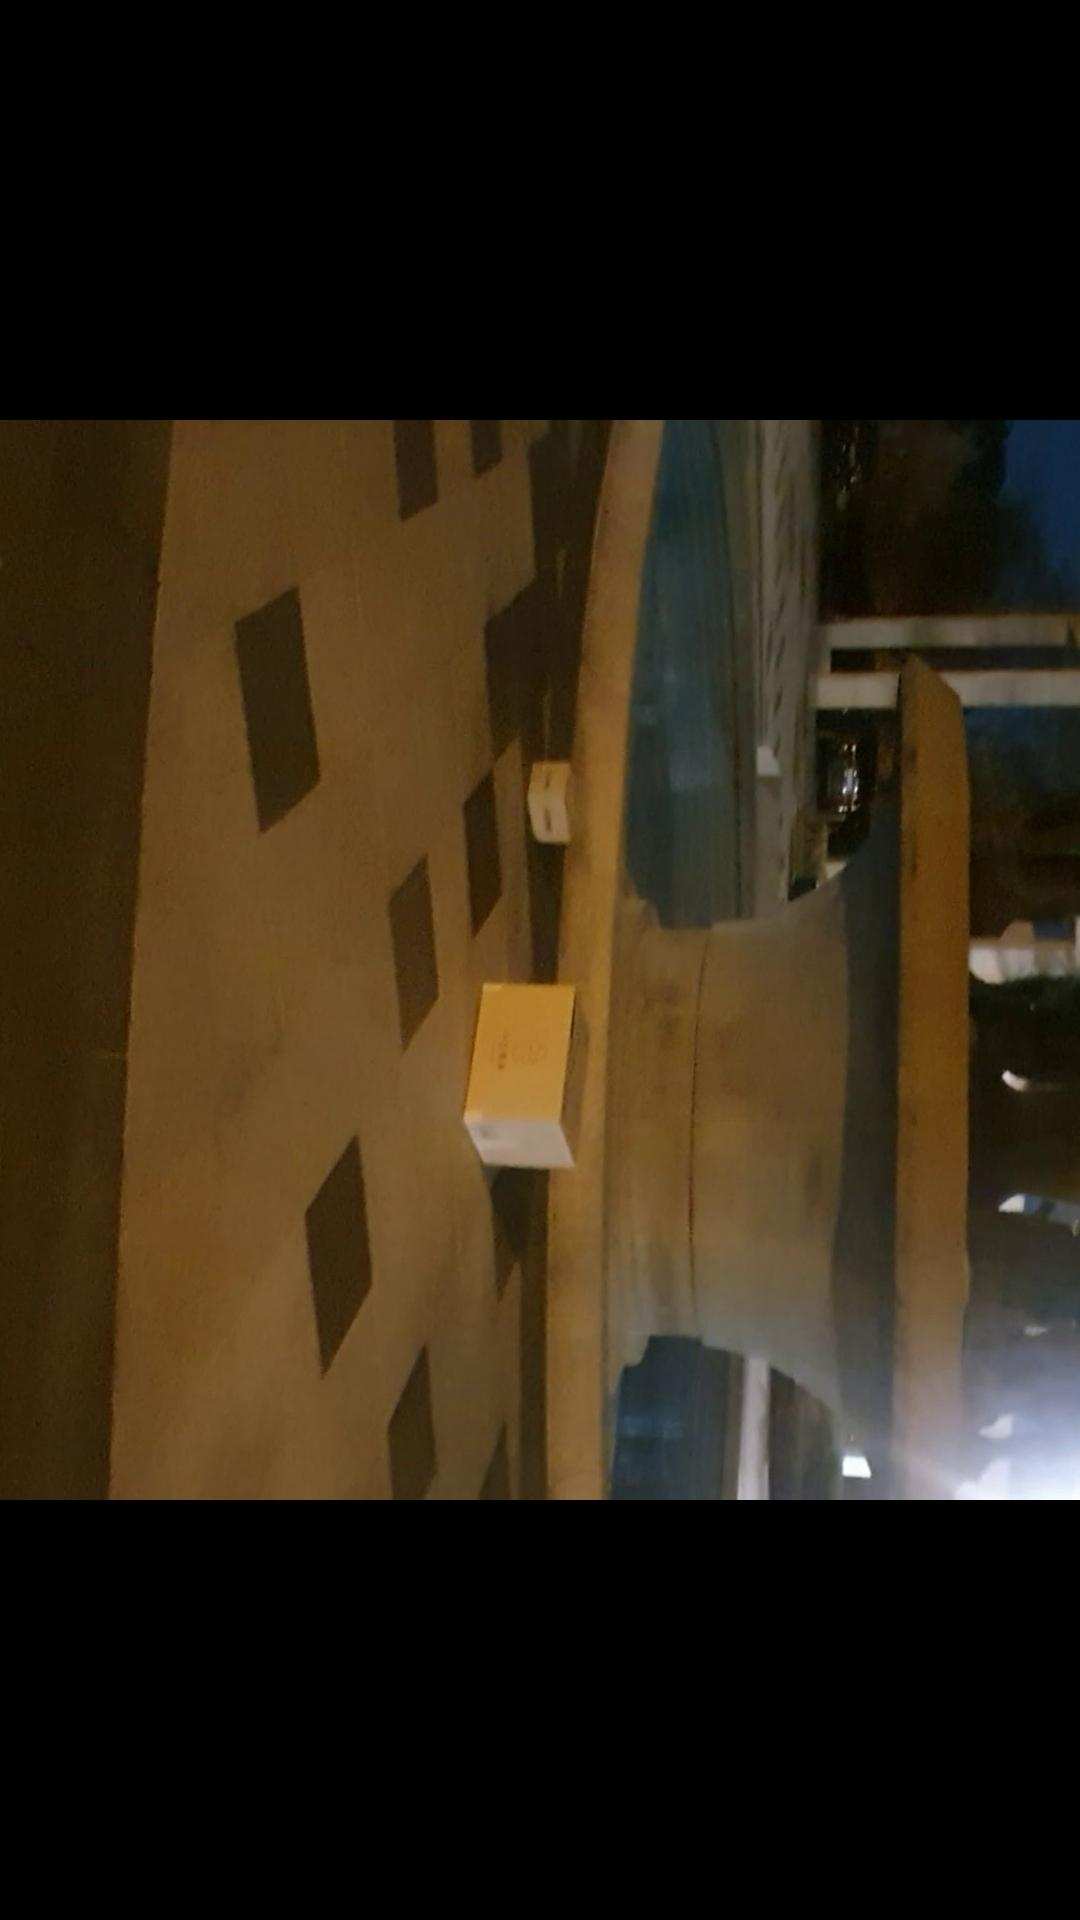Box: (455, 968, 600, 1178), (516, 756, 587, 848)
